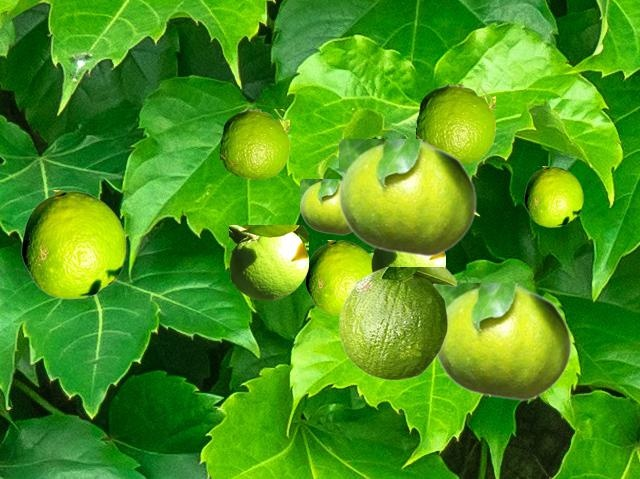dalandan: (339, 139, 476, 256), (435, 283, 571, 400), (338, 267, 456, 379), (21, 190, 125, 298), (416, 84, 494, 163), (229, 225, 307, 299), (305, 240, 371, 314), (220, 109, 288, 178), (524, 166, 582, 226), (300, 179, 350, 234), (371, 249, 444, 285)
